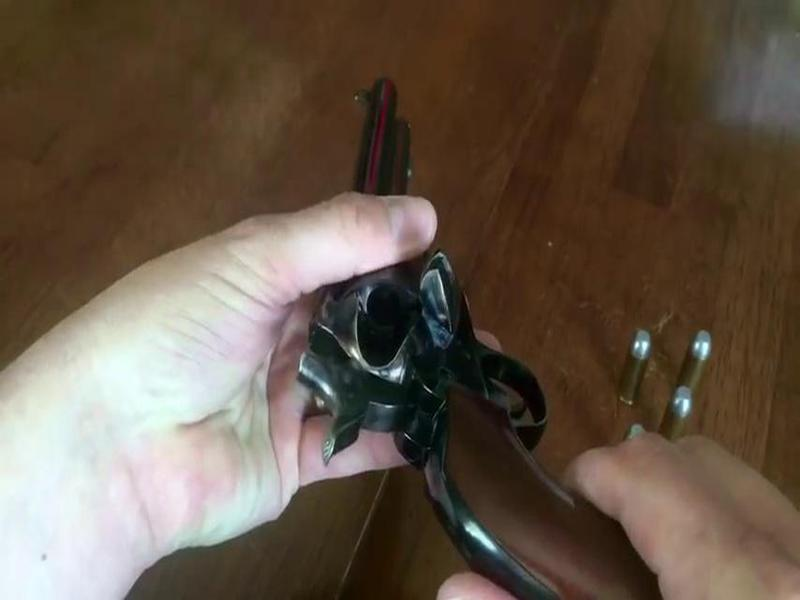Revolver: (306, 54, 577, 577)
